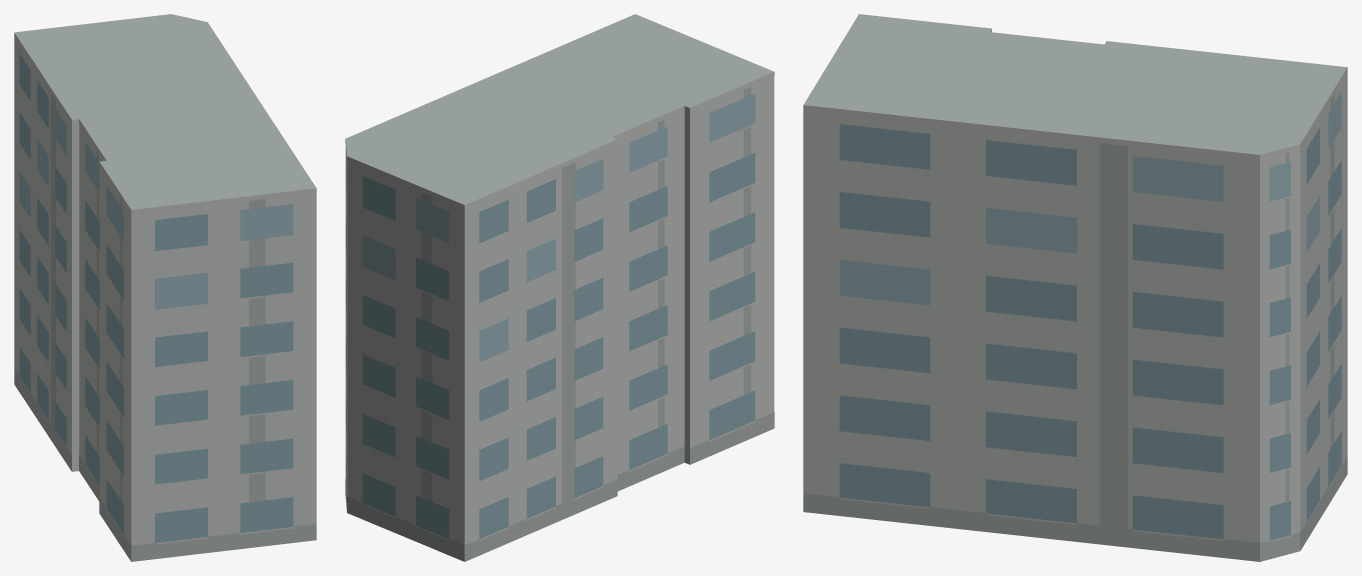
File: survey-upis-32617078.glb
The picture shows the model from 3 angles, left to right: view 1: azimuth 30°, elevation 25°; view 2: azimuth 150°, elevation 25°; view 3: azimuth 270°, elevation 25°; orthographic projection. The views are drawn at different scales.
Parts seen in each view (by area): view 1: survey-upis-32617078.tmp; view 2: survey-upis-32617078.tmp; view 3: survey-upis-32617078.tmp.
Boxes of the visible parts, x1,y1,x2,y2 form: survey-upis-32617078.tmp: (14,14,316,561); survey-upis-32617078.tmp: (345,14,774,561); survey-upis-32617078.tmp: (803,14,1347,561).
Bounding box in the file's own units: 13.6 × 18.3 × 22.19.
